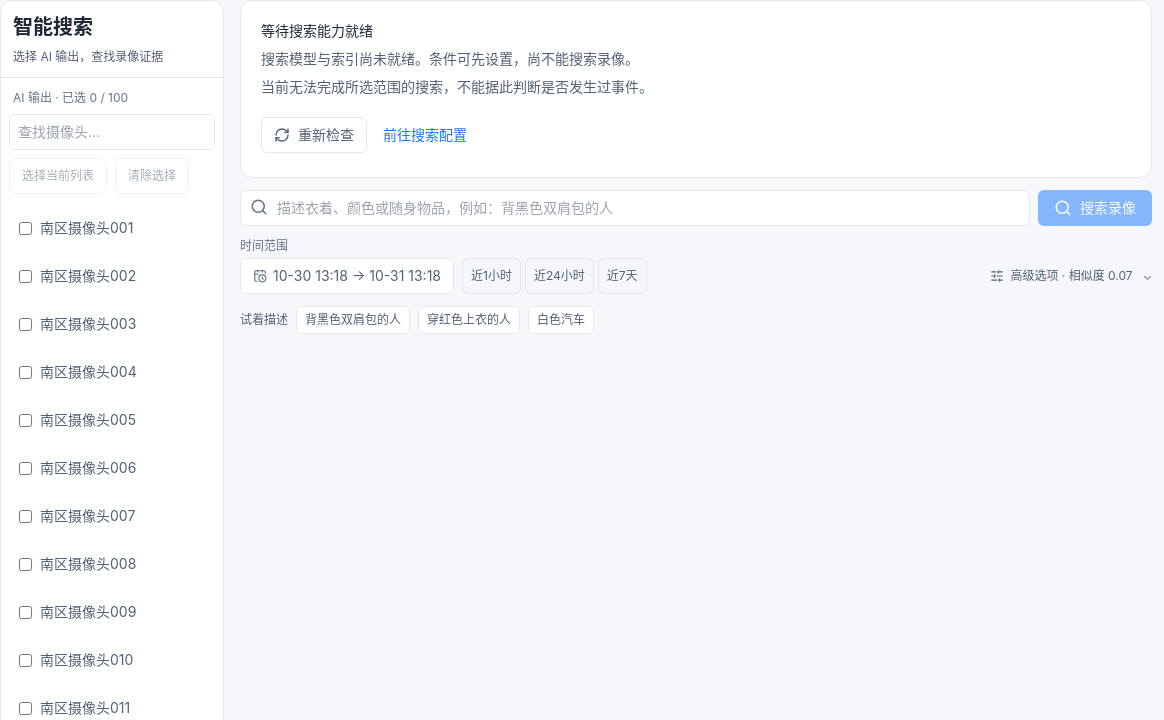
Scenario: explains a large source selection before exceeding the100-channel contract and keeps checked sources removable
Expected: the button "选择当前列表" is disabled, [9,158,107,194]
Expected: the checkbox labelled "南区摄像头001" is not checked, [19,222,32,234]
Step 1. Type "南区" into the field labelled "查找摄像头" → (112, 132), box [9,114,215,150]
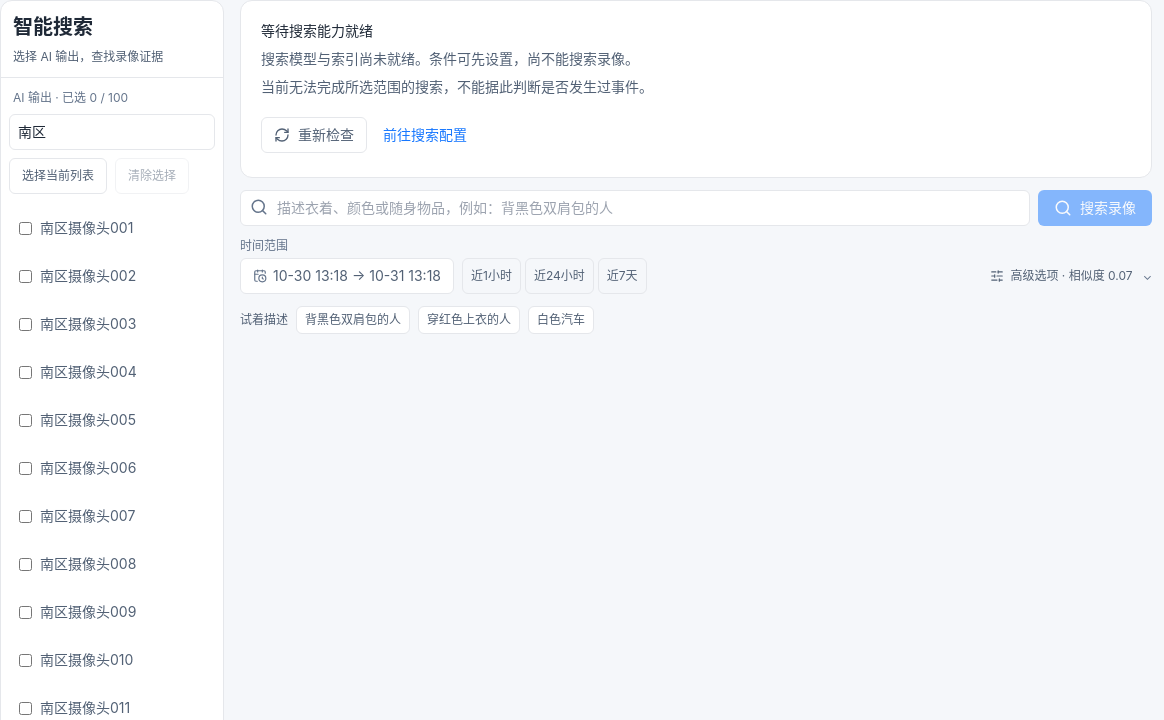
Step 2. Click the button "选择当前列表" → (58, 176), box [9,158,107,194]
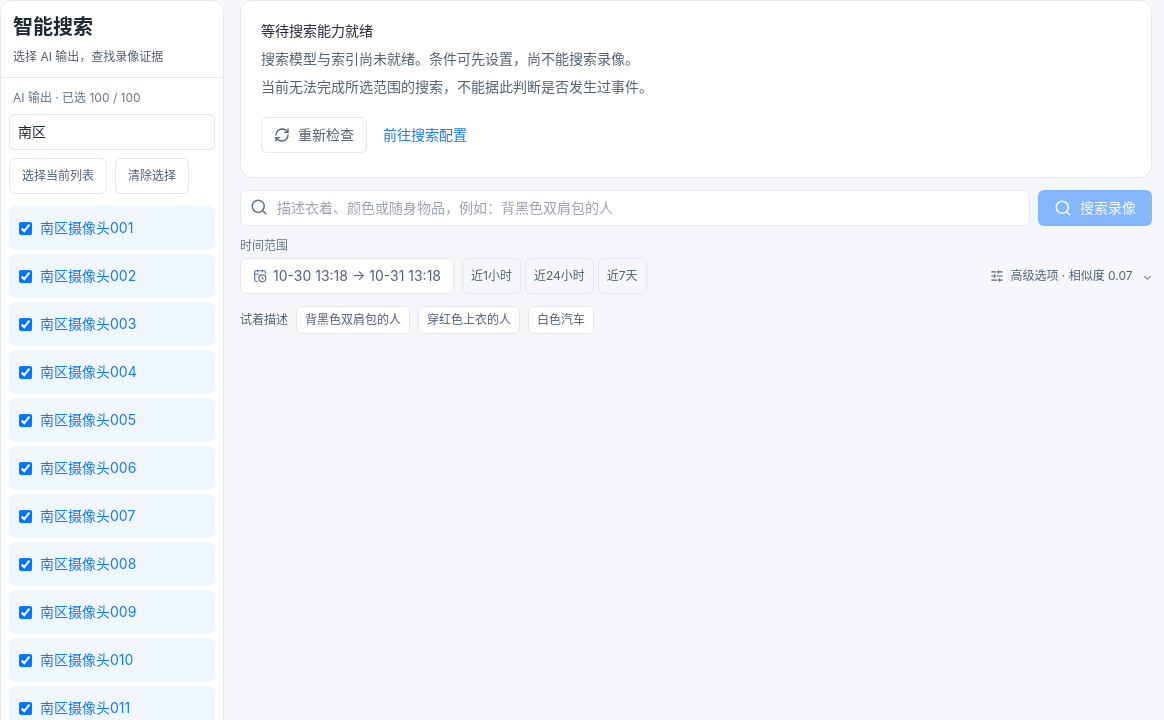
Expected: the text "AI 输出 · 已选 100 / 100" is shown, [9,90,145,106]
Step 3. Clear the field named "查找摄像头" → (112, 132), box [9,114,215,150]
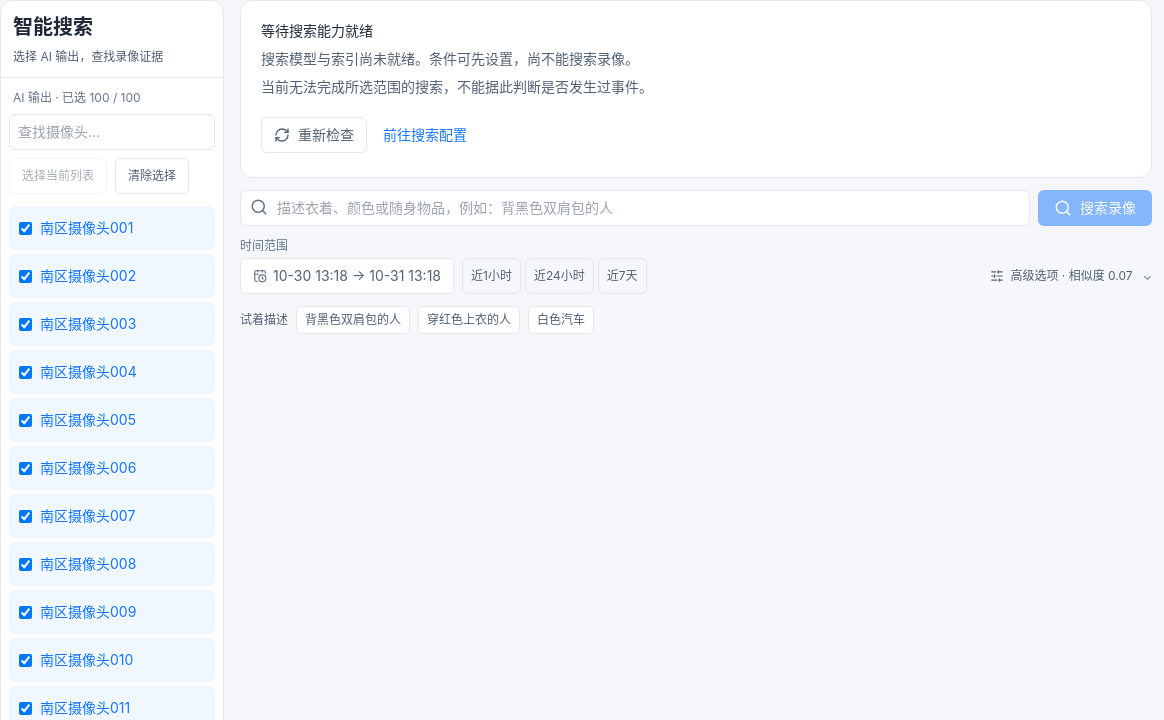
Step 4. Click the checkbox labelled "南区摄像头001" → (26, 228), box [19,222,32,234]
(page scrolled)
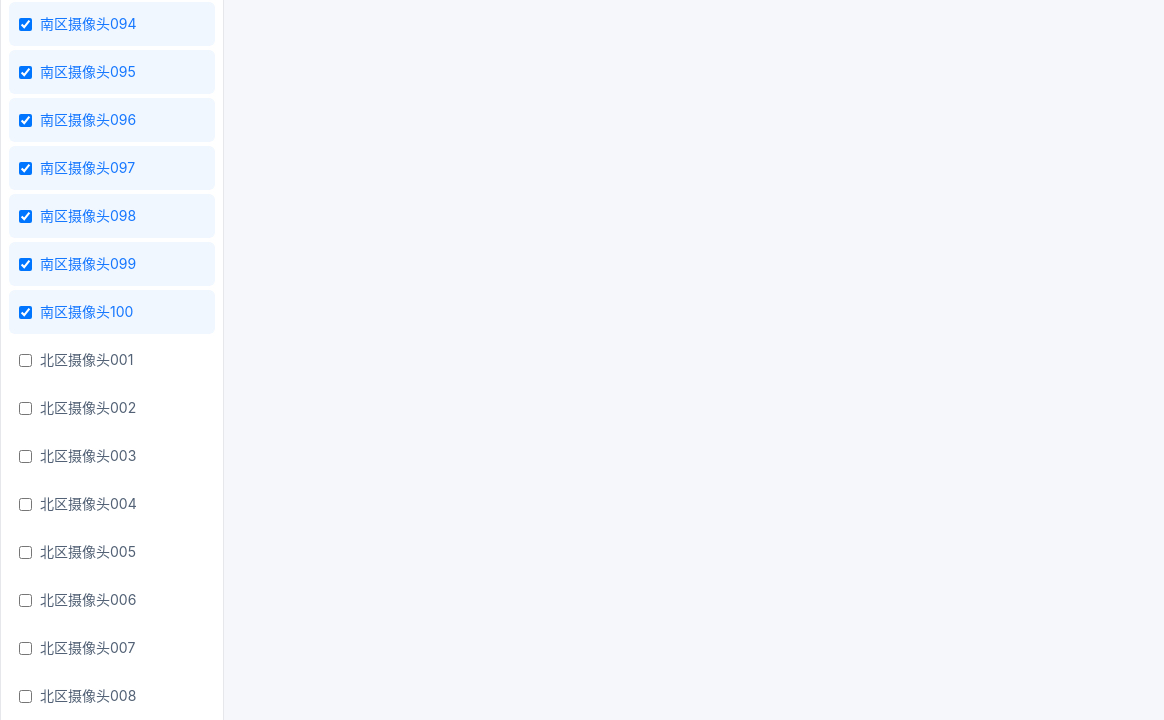
Expected: the checkbox labelled "北区摄像头001" is enabled
Step 5. Click the checkbox labelled "北区摄像头001" → (26, 360), box [19,354,32,366]
(page scrolled)
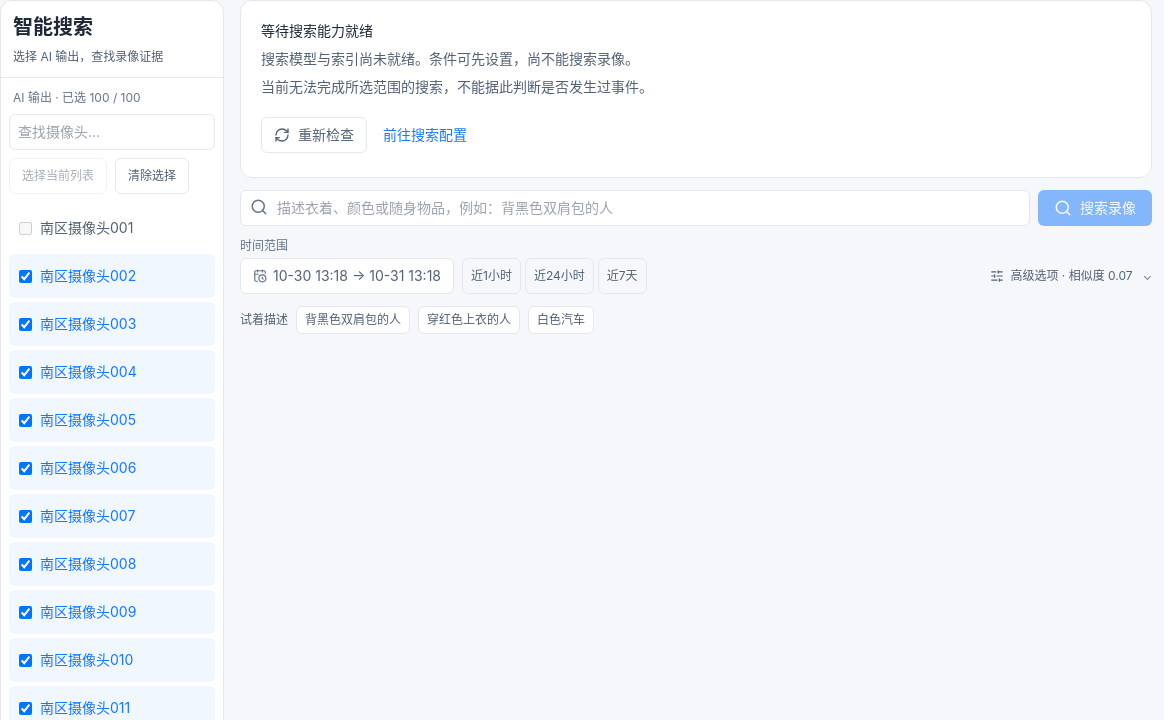
Expected: the checkbox labelled "南区摄像头001" is not checked, [19,222,32,234]
Expected: the text "AI 输出 · 已选 100 / 100" is shown, [9,90,145,106]
